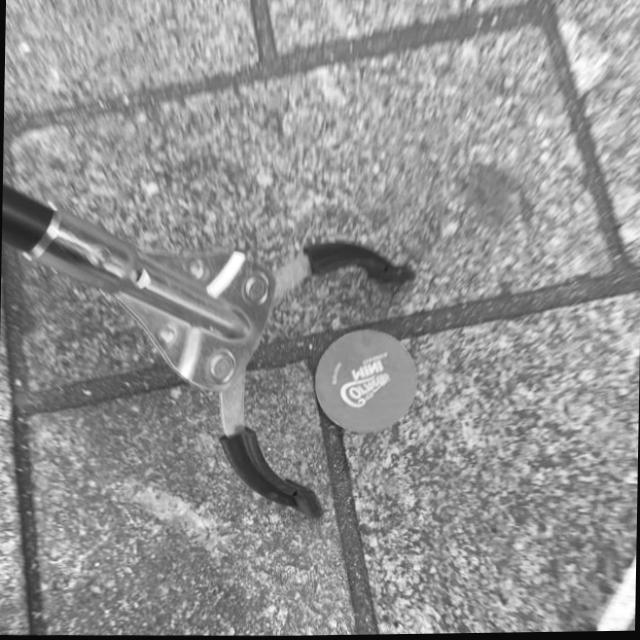Paper: (312, 327, 419, 437)
